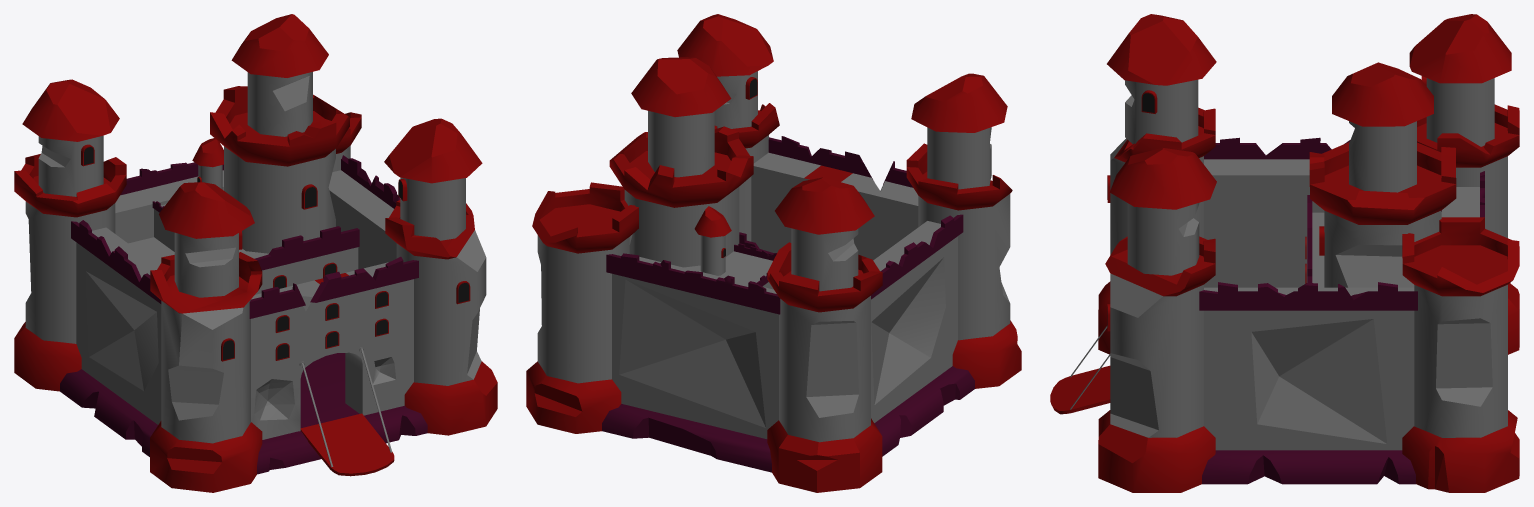
Rendered from Evil_Castle_Upgrade1_Stage2.fbx.
3 renders of one model, left to right at view 1: azimuth 30°, elevation 25°; view 2: azimuth 150°, elevation 25°; view 3: azimuth 270°, elevation 25°, orthographic. The views are drawn at different scales.
Visible parts, largest first — view 1: Evil_Castle_Upgrade1_Stage_2; view 2: Evil_Castle_Upgrade1_Stage_2; view 3: Evil_Castle_Upgrade1_Stage_2.
Boxes of the visible parts, left/top/right/bottom form: Evil_Castle_Upgrade1_Stage_2: left=14, top=14, right=497, bottom=492; Evil_Castle_Upgrade1_Stage_2: left=526, top=14, right=1021, bottom=492; Evil_Castle_Upgrade1_Stage_2: left=1050, top=14, right=1519, bottom=492.
Bounding box in the file's own units: 832 × 806 × 927.
1 material, 1 textured.
